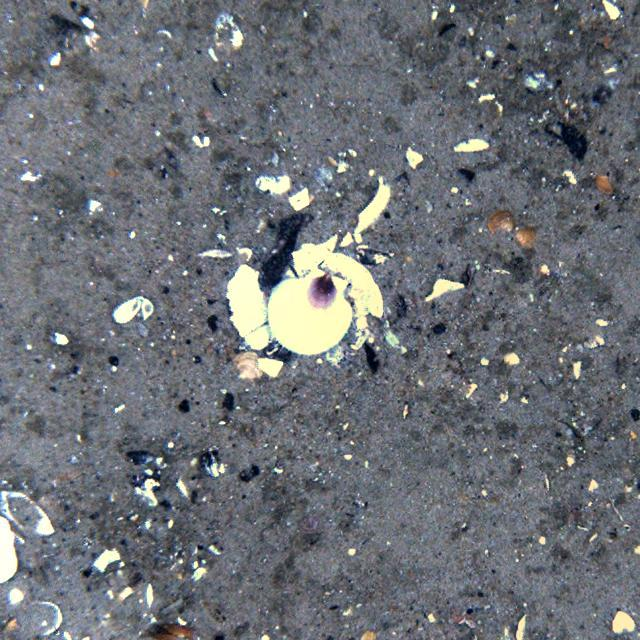scallop: (306, 275, 340, 310)
